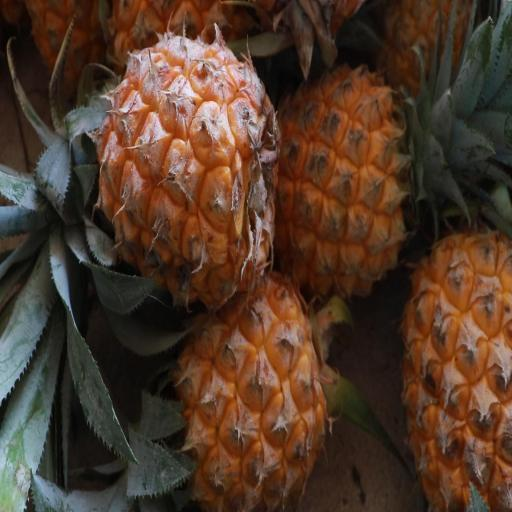Pineapple - v8 v1: (34, 28, 288, 322), (282, 49, 460, 305), (162, 264, 339, 512), (397, 230, 512, 512)
